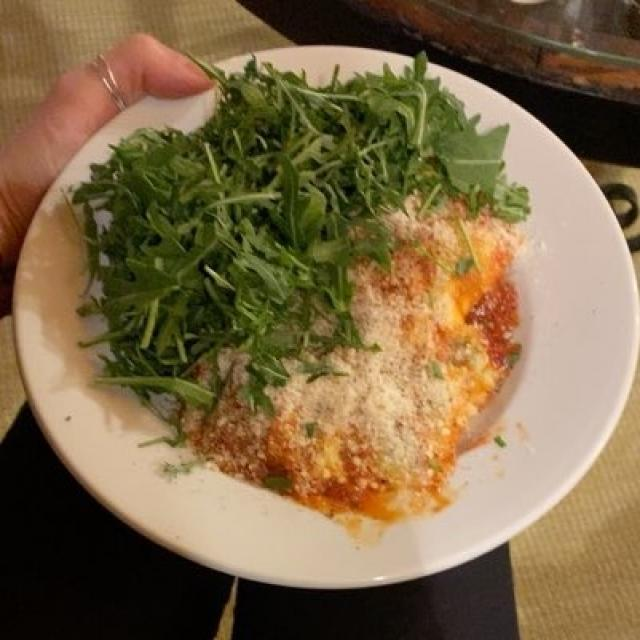cheese: (183, 243, 490, 471)
salad: (63, 62, 526, 424)
tomato-sauce: (210, 286, 532, 508)
